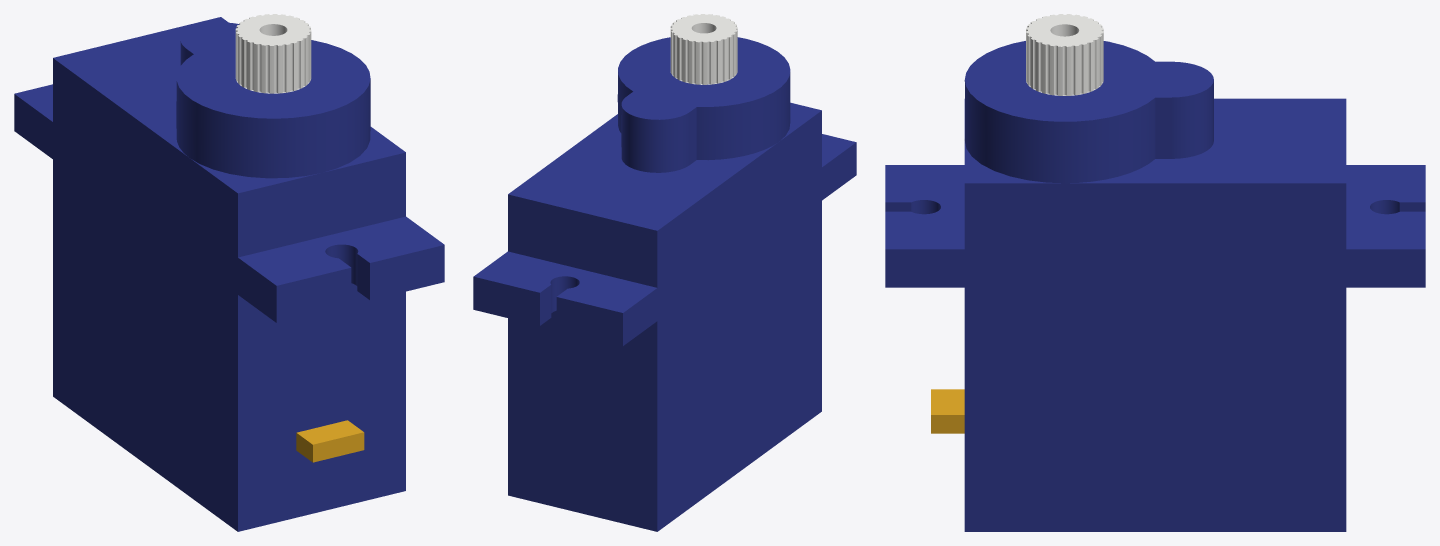
The model's file is _Servo v1.fbx.
The picture shows the model from 3 angles, left to right: view 1: azimuth 30°, elevation 25°; view 2: azimuth 150°, elevation 25°; view 3: azimuth 270°, elevation 25°; orthographic projection. The views are drawn at different scales.
Visible parts, largest first — view 1: Body1 (×3); view 2: Body1 (×2); view 3: Body1 (×3).
Boxes of the visible parts, x1=… form: Body1 (×3): x1=14, y1=14, x2=444, y2=531; Body1 (×2): x1=473, y1=14, x2=856, y2=531; Body1 (×3): x1=885, y1=14, x2=1425, y2=531.
Bounding box in the file's own units: 11.8 × 29.9 × 31.9.
